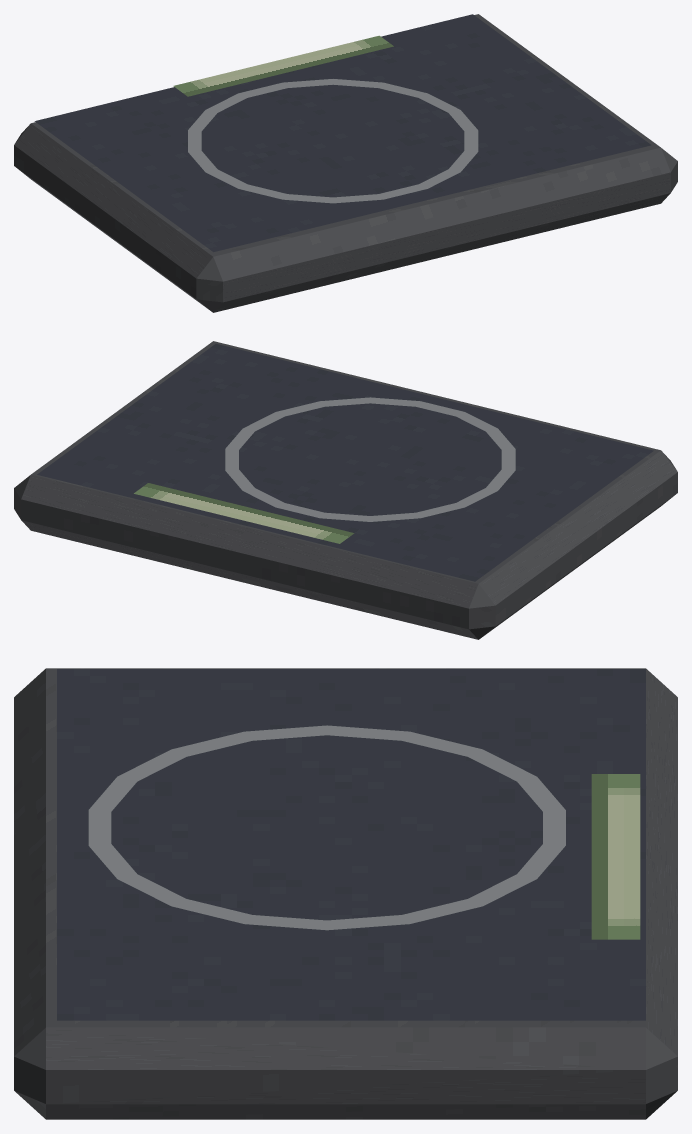
Rendered from hotplate_induction.glb.
3 views of the same model, one above another, from view 1: azimuth 30°, elevation 25°; view 2: azimuth 150°, elevation 25°; view 3: azimuth 270°, elevation 25° (orthographic). The views are drawn at different scales.
Parts seen in each view (by area): view 1: block_glass cooktop, block_stove base, block_touch control strip; view 2: block_glass cooktop, block_stove base, block_touch control strip; view 3: block_glass cooktop, block_stove base, block_touch control strip, block_induction zone print 8, block_induction zone print 0, block_induction zone print 11, block_induction zone print 9, block_induction zone print 2, block_induction zone print 17, block_induction zone print 1, block_induction zone print 7, block_induction zone print 10 (+9 smaller).
Boxes of the visible parts, x1,y1,x2,y2 form: block_glass cooktop: (34,14,651,252); block_stove base: (14,14,677,312); block_touch control strip: (173,35,393,96); block_glass cooktop: (37,344,653,581); block_stove base: (14,341,677,639); block_touch control strip: (134,483,354,543); block_glass cooktop: (57,669,645,1020); block_stove base: (14,668,677,1119); block_touch control strip: (591,774,640,939); block_induction zone print 8: (244,725,327,740); block_induction zone print 0: (245,915,327,930); block_induction zone print 11: (468,749,536,781); block_induction zone print 9: (327,725,409,740); block_induction zone print 2: (117,874,185,906); block_induction zone print 17: (327,915,409,930); block_induction zone print 1: (172,899,251,923); block_induction zone print 7: (172,731,251,756); block_induction zone print 10: (402,731,482,756).
Bounding box in the file's own units: 0.35 × 0.0419 × 0.2542.
Materials: 1 (1 with a texture image).
